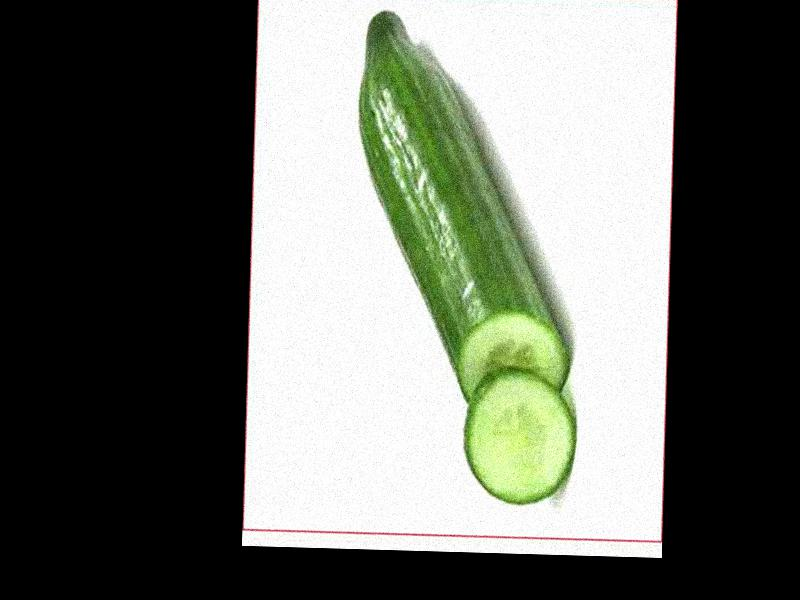Cucumber: (351, 9, 579, 412)
